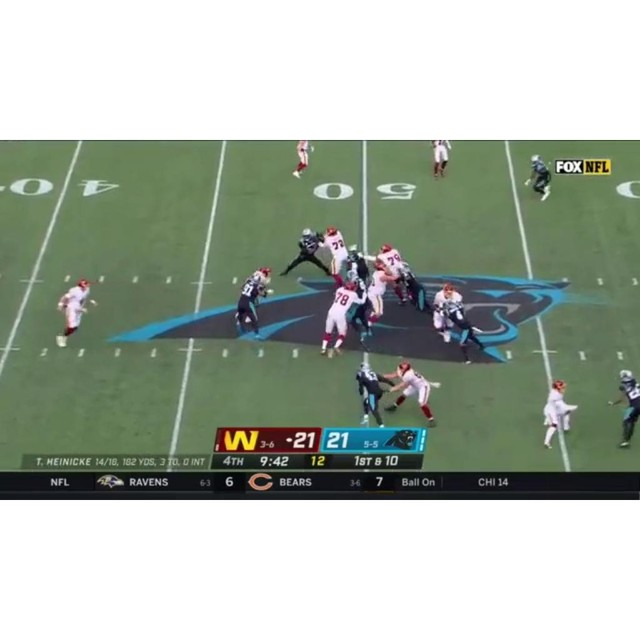american-football-player: (320, 279, 361, 359), (389, 362, 438, 426), (442, 299, 485, 364), (235, 272, 270, 349), (56, 278, 95, 347), (608, 370, 640, 450), (542, 380, 578, 449), (281, 228, 329, 279), (355, 363, 391, 428), (321, 226, 351, 288), (397, 263, 431, 315), (430, 284, 458, 342), (524, 154, 552, 202), (347, 246, 372, 290), (430, 140, 451, 180), (292, 141, 313, 178)
